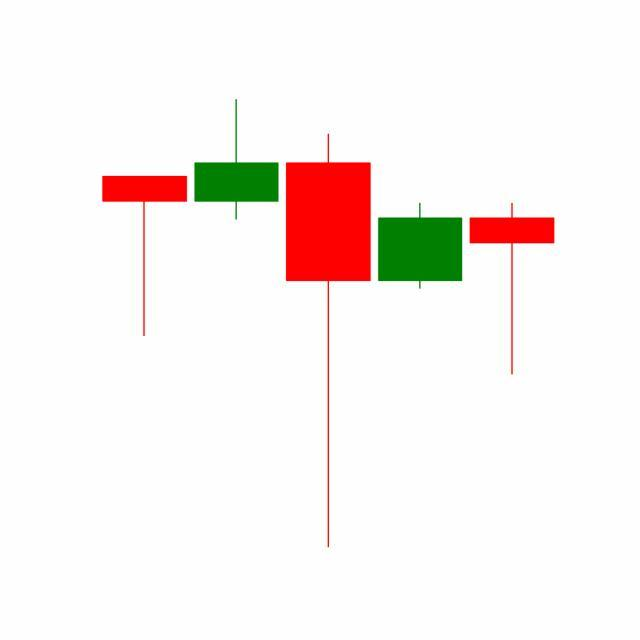Marubozu: (374, 203, 468, 291)
